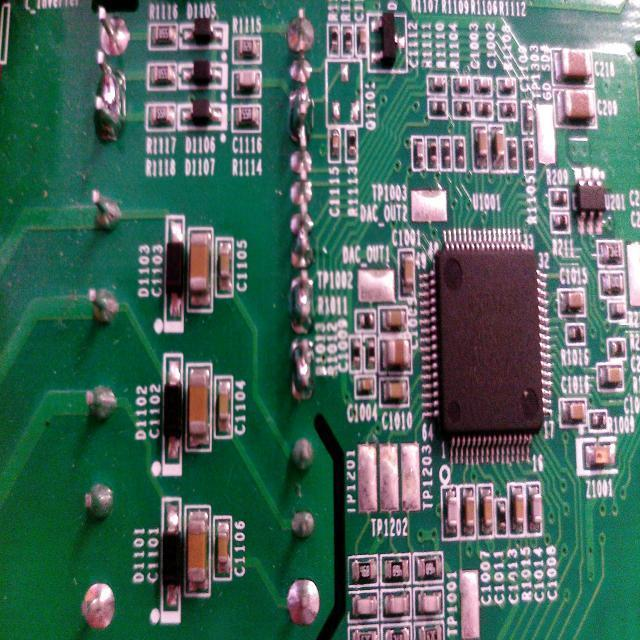Soldering shorted: (88, 49, 132, 142), (286, 336, 324, 404), (282, 203, 320, 270), (283, 75, 319, 143), (286, 270, 320, 336)
